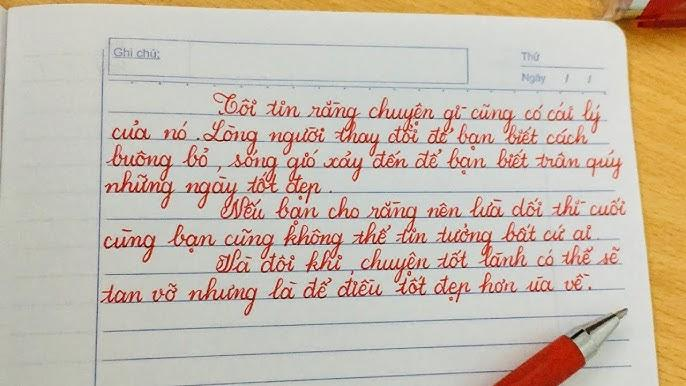text: (97, 271, 593, 319), (102, 220, 594, 264), (105, 143, 624, 183), (111, 118, 589, 157), (217, 192, 629, 233), (213, 243, 623, 283), (212, 91, 602, 133), (102, 170, 323, 211), (113, 46, 160, 60), (521, 72, 547, 87), (521, 51, 541, 63)
